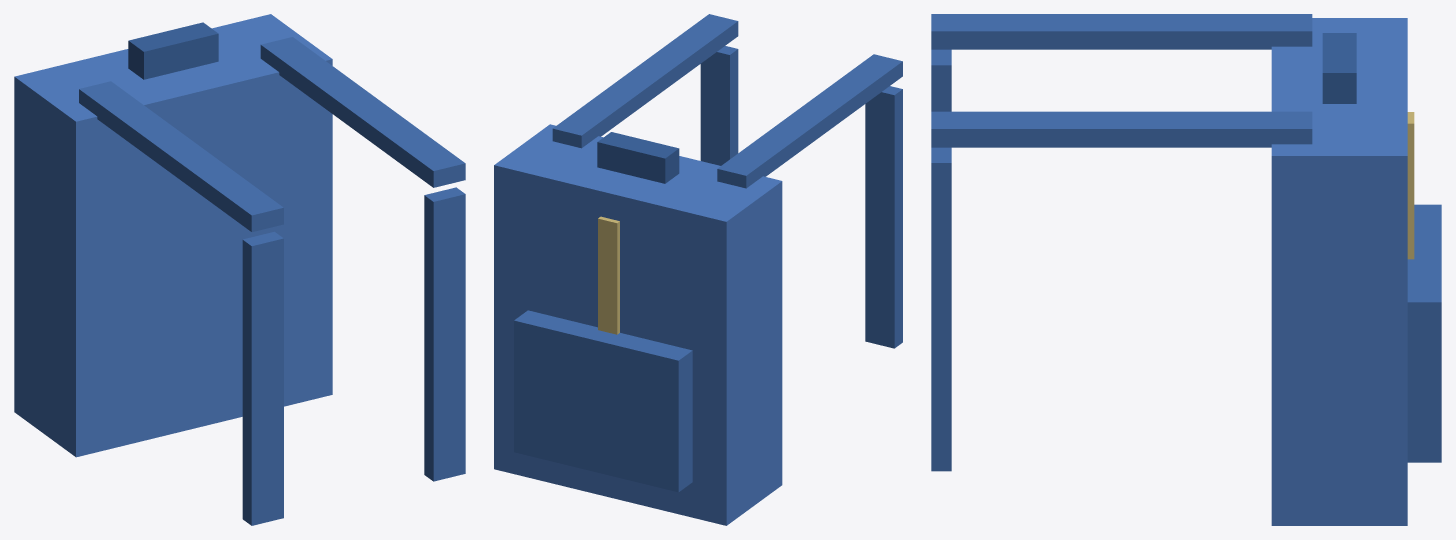
File: av_pack_backpack.glb
The picture shows the model from 3 angles, left to right: view 1: azimuth 30°, elevation 25°; view 2: azimuth 150°, elevation 25°; view 3: azimuth 270°, elevation 25°; orthographic projection. The views are drawn at different scales.
Size of the model in its own units: 0.48 by 0.655 by 0.75.
